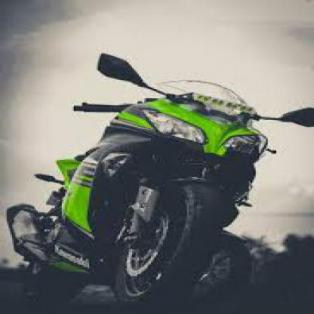Motocicleta: (0, 49, 312, 313)
